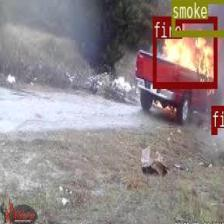fire: (152, 16, 217, 87), (210, 105, 217, 133)
smoke: (171, 0, 224, 35)
